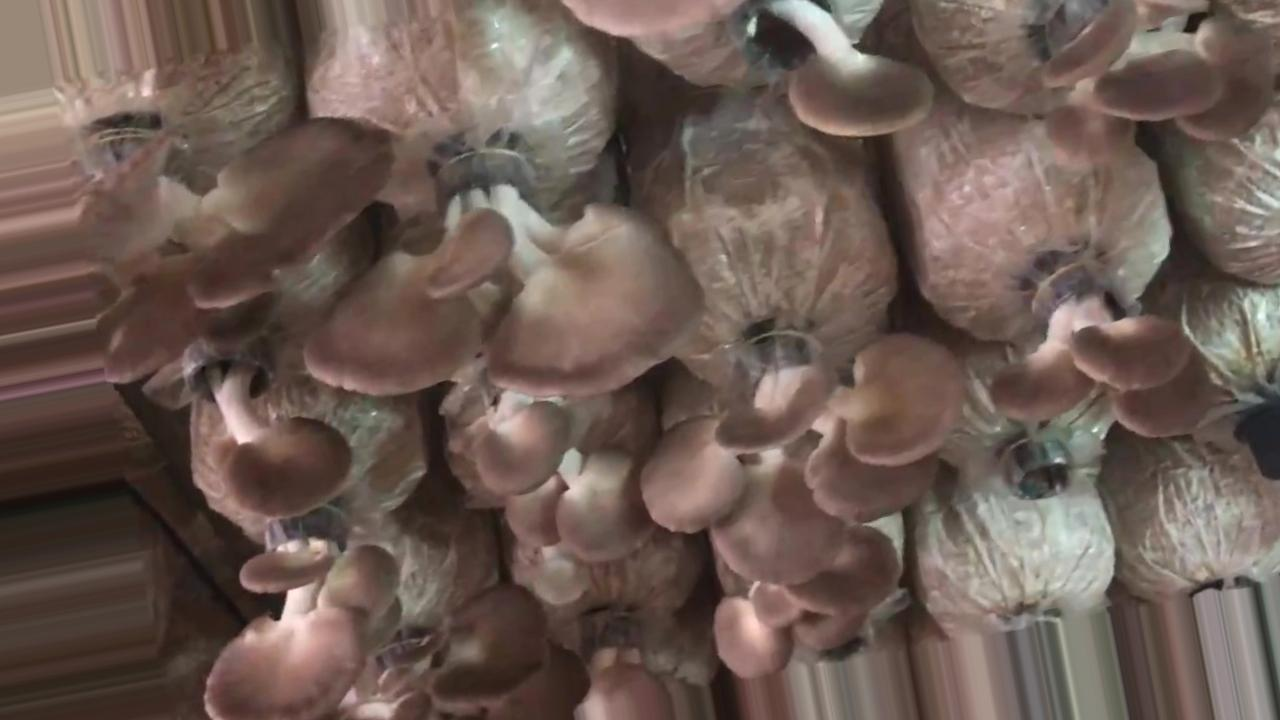nam: (305, 147, 702, 394), (641, 329, 960, 615), (81, 113, 392, 381), (207, 512, 399, 720), (992, 264, 1214, 437), (1046, 1, 1267, 169), (335, 589, 589, 720), (181, 336, 350, 518), (477, 383, 649, 559), (738, 1, 930, 138), (578, 618, 673, 720)
